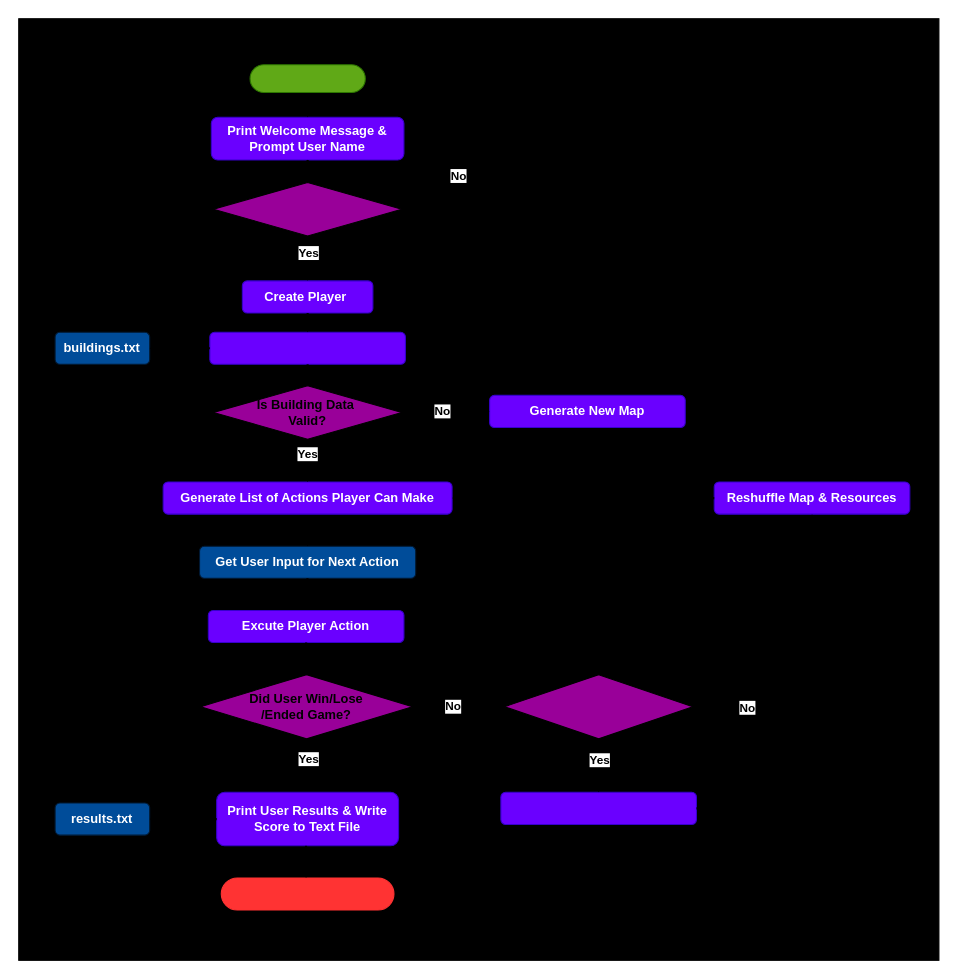
Image size: 958x979. Some labels were removed from this diagram. The shapes that lost their labels are listed below. From the top down, each one's centre as x and y in pixels, then its label:
At (307,78): "Start Game".
At (307,208): "Is User Name Valid?".
At (307,347): "Read & Initialize Map".
At (598,706): "Jump to Building with Effects?".
At (598,807): "Apply Effects to Player".
At (307,893): "End Game".
